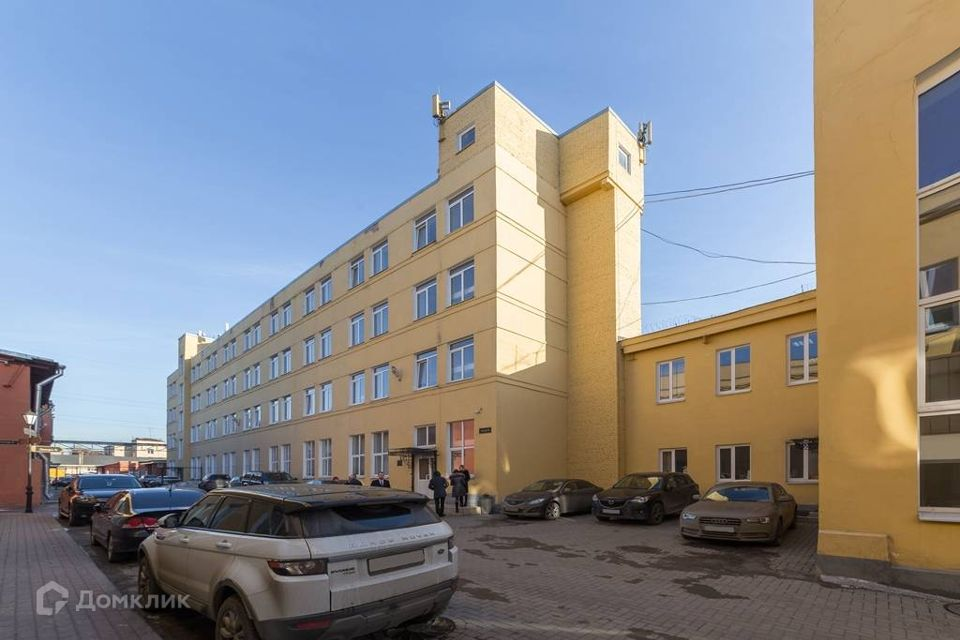Car: (137, 483, 458, 640), (89, 488, 202, 562), (679, 481, 797, 544), (593, 471, 699, 524), (57, 474, 141, 526), (501, 479, 600, 520), (242, 471, 302, 486), (197, 473, 231, 492), (139, 475, 162, 487), (225, 475, 244, 488)
